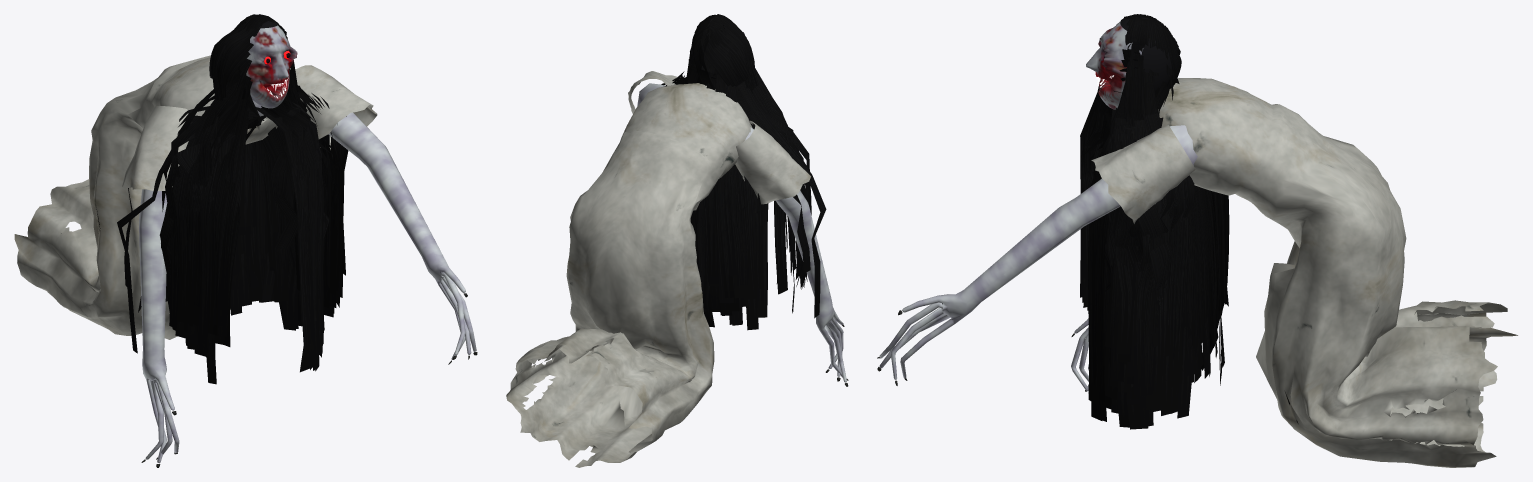
File: Ma_NgoiXom.fbx
3 views of the same model, side by side, from view 1: azimuth 30°, elevation 25°; view 2: azimuth 150°, elevation 25°; view 3: azimuth 270°, elevation 25° (orthographic). The views are drawn at different scales.
Parts seen in each view (by area): view 1: Toc, Vay, Than, TayAo_R, MatMa, TayAo_L; view 2: Vay, Toc, TayAo_R, Than, TayAo_L; view 3: Vay, Toc, Than, TayAo_L, MatMa, DaDau.
Part boxes in pixels (bbox=[...]): Toc: bbox=[117, 14, 348, 384]; Vay: bbox=[14, 55, 277, 339]; Than: bbox=[139, 100, 476, 462]; TayAo_R: bbox=[122, 106, 188, 190]; MatMa: bbox=[246, 25, 297, 108]; TayAo_L: bbox=[295, 65, 377, 149]; Vay: bbox=[506, 83, 752, 467]; Toc: bbox=[661, 14, 826, 330]; TayAo_R: bbox=[735, 120, 810, 204]; Than: bbox=[637, 83, 846, 382]; TayAo_L: bbox=[628, 71, 677, 113]; Vay: bbox=[1158, 78, 1517, 467]; Toc: bbox=[1080, 14, 1229, 429]; Than: bbox=[879, 125, 1197, 391]; TayAo_L: bbox=[1091, 124, 1195, 223]; MatMa: bbox=[1086, 21, 1143, 109]; DaDau: bbox=[1120, 17, 1171, 90].
Size of the model in its own units: 0.8701 by 1.38 by 1.8.
